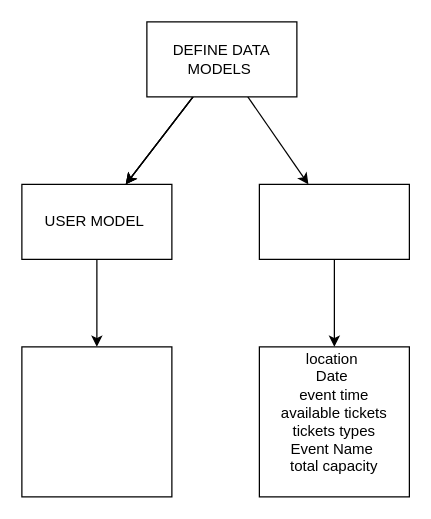
The diagram is 431 pixels wide and 519 high, and some of its shapes have lost their labels. Here are the shapes that lost their labels. From the top down, the centre of each, then its label:
point 333,221: EVENT MODELS
point 96,421: user id user name email address password time stamp hash password
